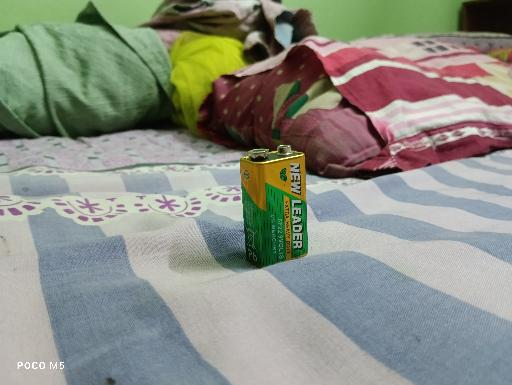Battery: (240, 145, 308, 269)
